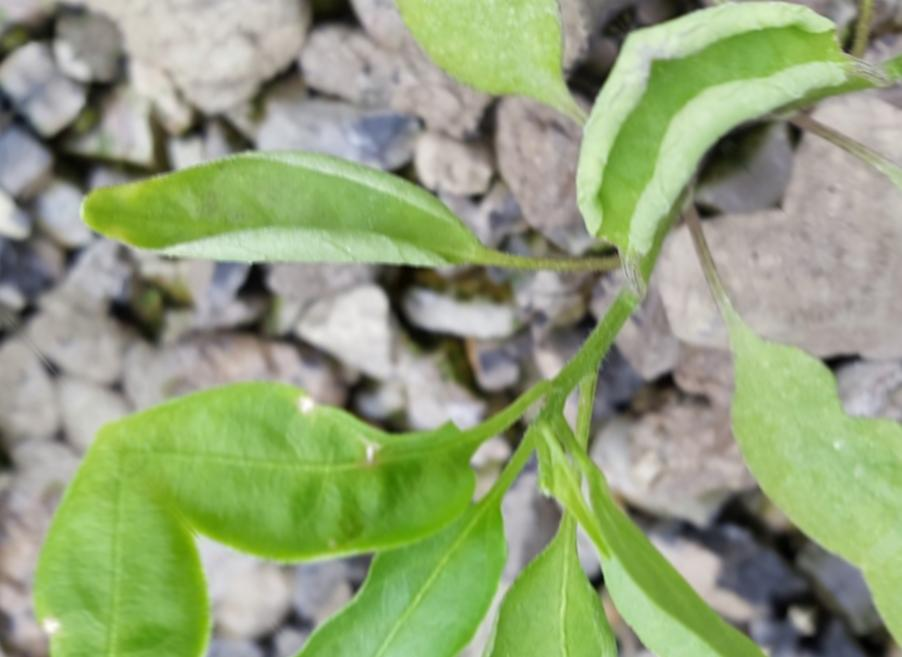Tomato leaf: (60, 9, 514, 465), (67, 212, 503, 657), (257, 414, 633, 657), (655, 277, 902, 591), (268, 0, 644, 167)
